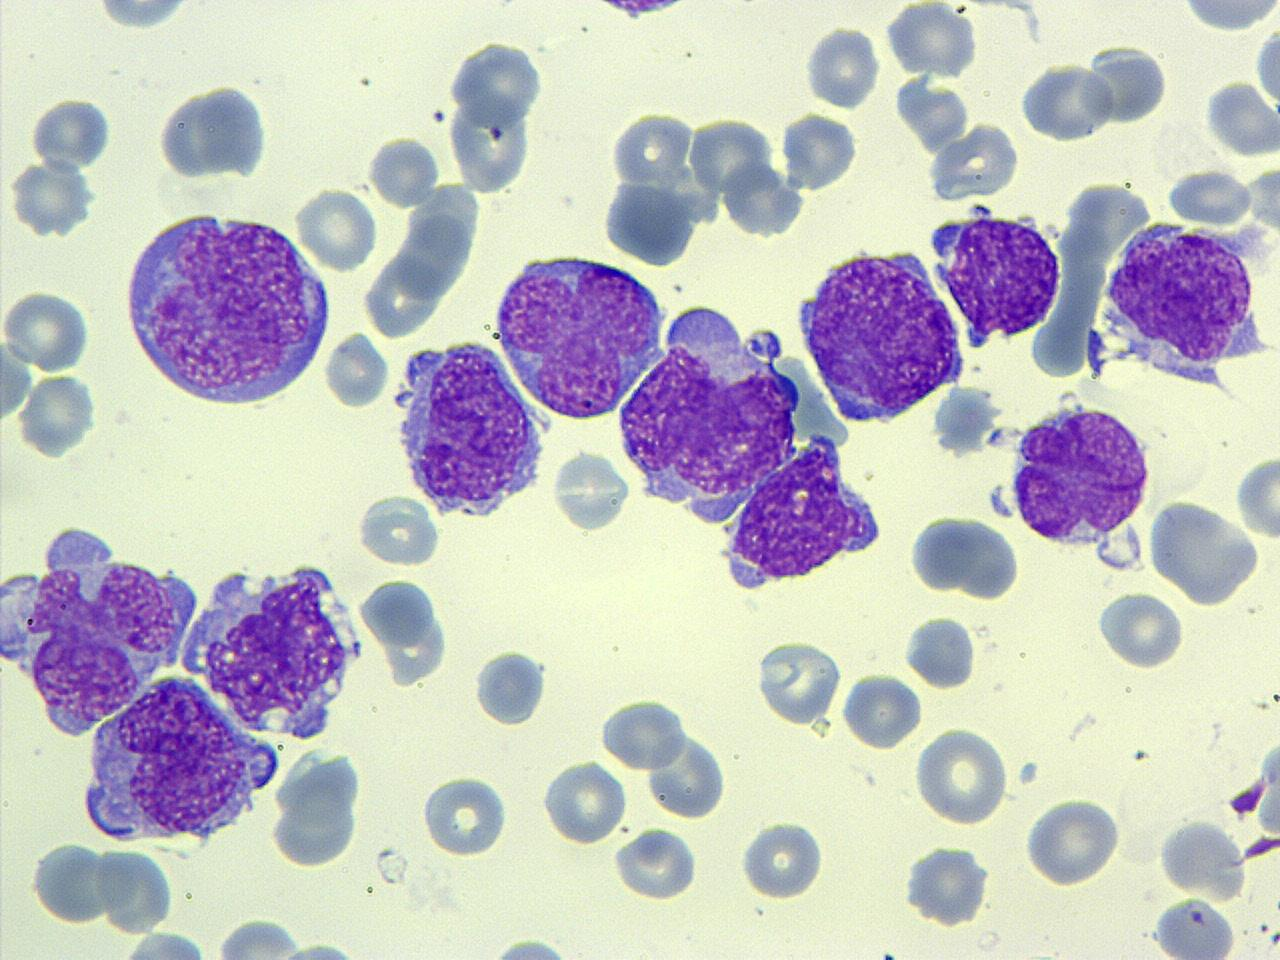Platelets: (551, 448, 632, 533), (802, 25, 882, 112), (612, 826, 702, 902), (470, 646, 551, 728), (5, 163, 90, 238), (900, 612, 978, 690), (1165, 168, 1251, 228), (930, 385, 1001, 455), (114, 926, 216, 960), (487, 935, 574, 960), (1225, 781, 1265, 817), (1257, 741, 1279, 793), (1244, 833, 1278, 860)
RBC: (1144, 497, 1262, 607), (445, 90, 539, 197), (914, 723, 1010, 827), (1022, 793, 1123, 888), (1014, 59, 1114, 143), (419, 770, 511, 860), (1, 286, 95, 373), (754, 636, 844, 726), (737, 814, 826, 902), (294, 183, 380, 274), (645, 728, 729, 822), (540, 757, 626, 846), (95, 843, 175, 937), (885, 0, 978, 81), (28, 838, 112, 927), (1085, 41, 1171, 127), (598, 694, 688, 774), (16, 372, 101, 458), (1098, 586, 1184, 670), (550, 448, 632, 534), (610, 825, 700, 903), (803, 21, 881, 112), (355, 491, 443, 569), (839, 671, 922, 752), (28, 94, 117, 170), (201, 916, 340, 960), (322, 328, 392, 410), (1151, 894, 1239, 960), (1166, 166, 1254, 229), (1234, 450, 1280, 541), (1176, 0, 1280, 36), (0, 330, 32, 430)
WBC: (810, 0, 1280, 422), (401, 0, 988, 296), (610, 296, 896, 604), (119, 202, 334, 412), (0, 517, 200, 740), (79, 672, 281, 854), (1081, 210, 1277, 398), (182, 556, 366, 744), (790, 240, 968, 426), (488, 246, 667, 422), (390, 335, 552, 523), (1004, 398, 1154, 552), (930, 201, 1069, 344), (444, 66, 549, 197), (1144, 496, 1264, 606), (154, 79, 276, 185), (268, 746, 368, 870), (355, 571, 454, 691), (908, 512, 1025, 604), (447, 36, 547, 134), (1015, 61, 1115, 144), (902, 840, 992, 929), (1157, 818, 1249, 899), (30, 834, 110, 928), (646, 730, 729, 820), (1087, 39, 1169, 127), (599, 694, 689, 772), (29, 94, 114, 171), (1149, 892, 1237, 960), (1163, 166, 1253, 227), (98, 923, 227, 959), (86, 0, 206, 32), (1175, 1, 1275, 38), (1254, 12, 1280, 127)
